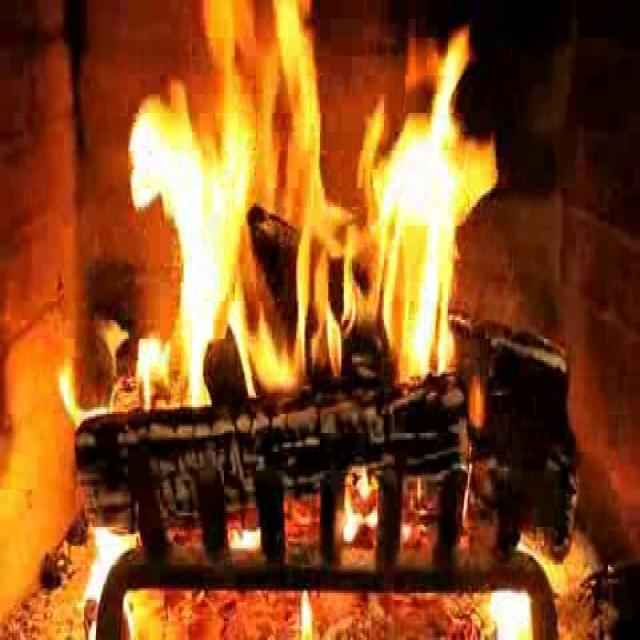fire: (135, 13, 496, 408)
